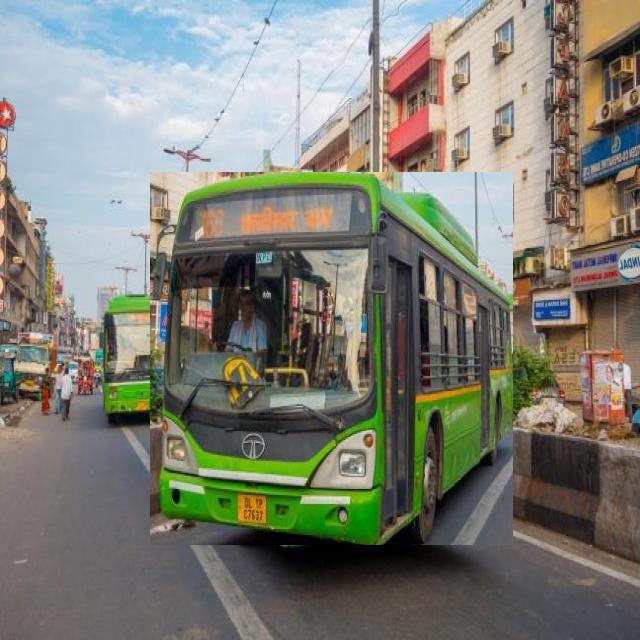bus: (150, 173, 513, 545), (104, 295, 152, 420)
